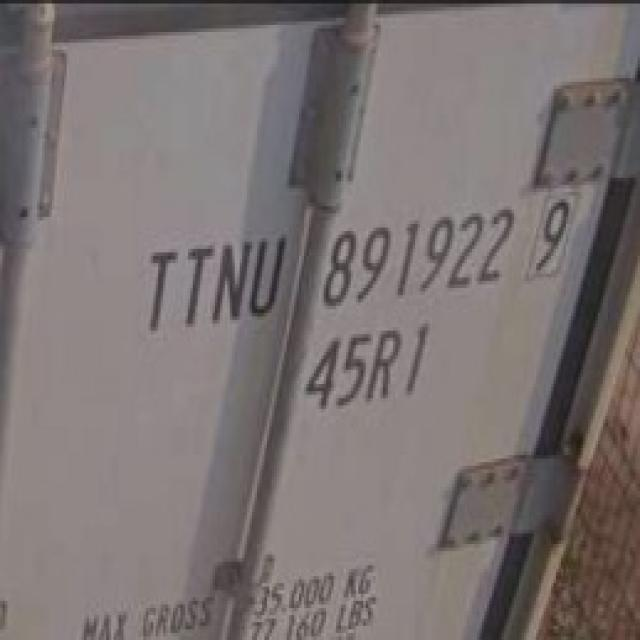dv: (530, 187, 574, 283)
owner: (140, 228, 286, 339)
serial: (318, 198, 516, 315)
size: (303, 322, 436, 416)
